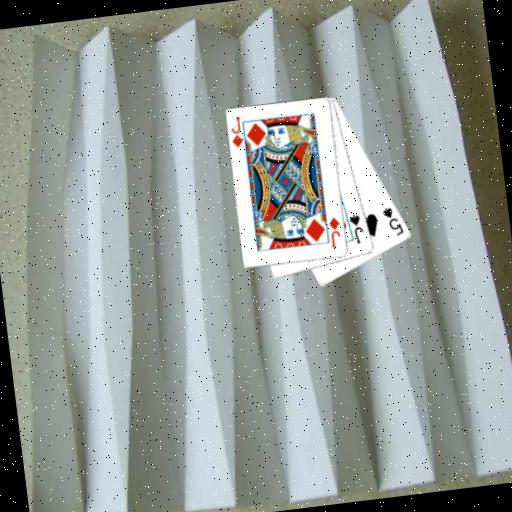5S: (379, 203, 406, 239)
JD: (325, 214, 344, 250), (227, 114, 246, 150)
JS: (347, 211, 367, 246)
